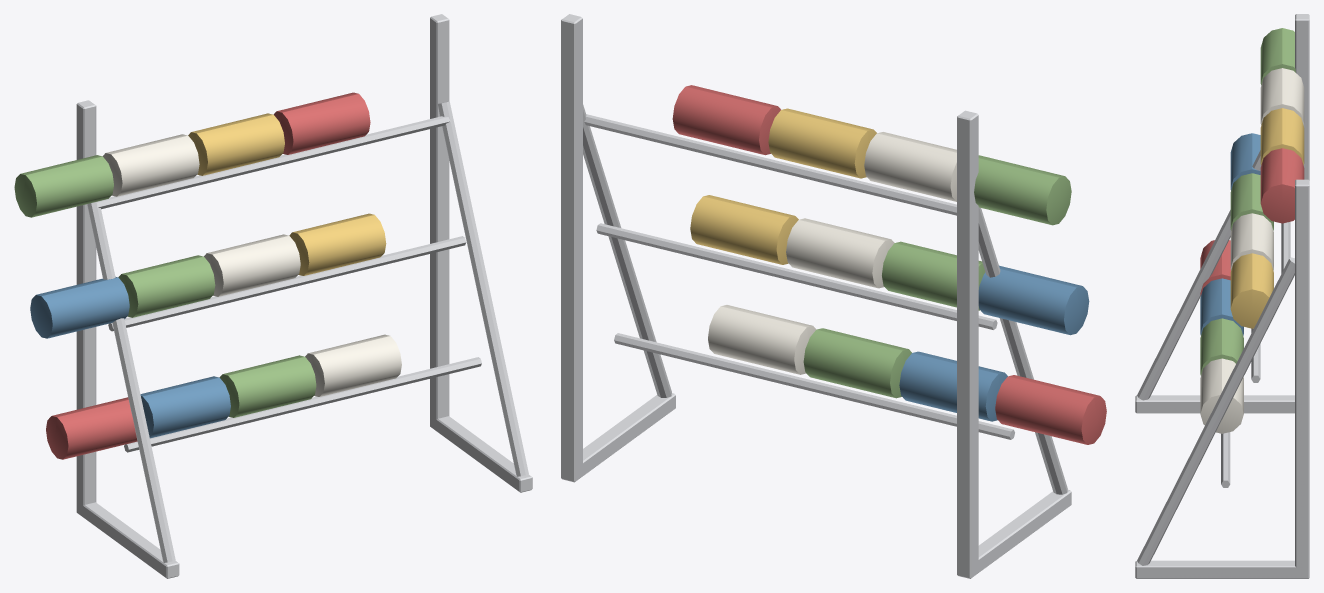
The picture shows the model from 3 angles, left to right: view 1: azimuth 30°, elevation 25°; view 2: azimuth 150°, elevation 25°; view 3: azimuth 270°, elevation 25°; orthographic projection. The views are drawn at different scales.
Visible parts, largest first — view 1: fabric-bolt-rack; view 2: fabric-bolt-rack; view 3: fabric-bolt-rack.
Part boxes in pixels (bbox=[...]): fabric-bolt-rack: bbox=[14, 14, 532, 578]; fabric-bolt-rack: bbox=[561, 14, 1106, 578]; fabric-bolt-rack: bbox=[1135, 14, 1309, 578].
Size of the model in its own units: 1.66 by 1.5 by 0.5999.
